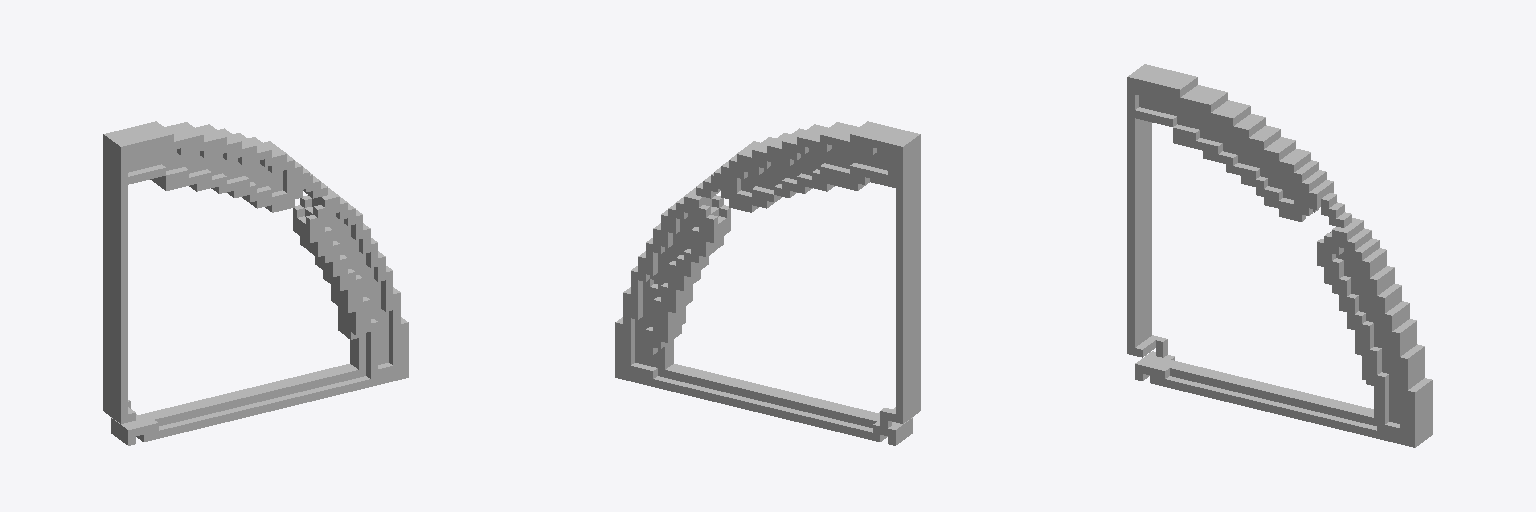
File: Voxel Bow.obj
The picture shows the model from 3 angles: view 1: azimuth 30°, elevation 25°; view 2: azimuth 150°, elevation 25°; view 3: azimuth 330°, elevation 25°; orthographic projection.
Visible parts, largest first — view 1: object 1; view 2: object 1; view 3: object 1.
Part boxes in pixels (x1,y1,x2,y2): object 1: (103, 121, 408, 445); object 1: (615, 121, 920, 445); object 1: (1127, 64, 1432, 447).
Bounding box in the file's own units: 3.8 × 3.8 × 0.4.